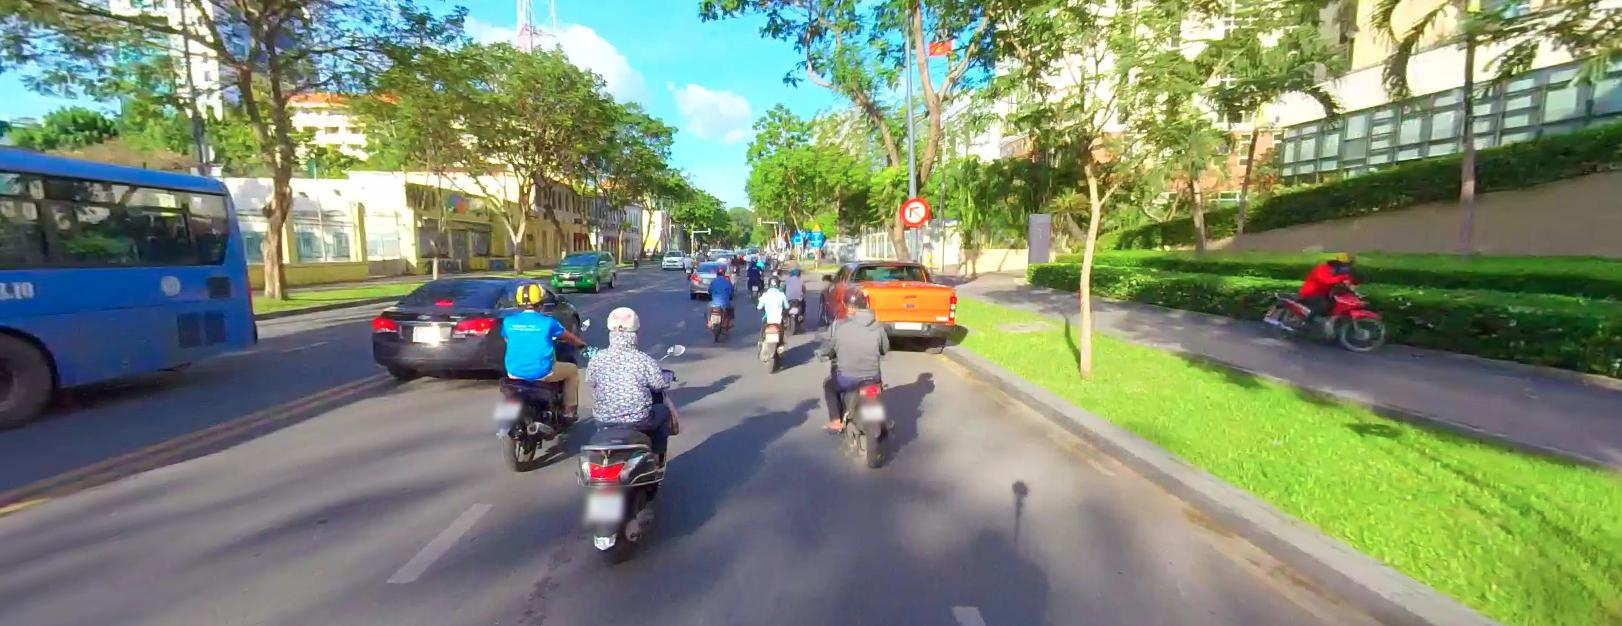Cam re: (898, 195, 929, 226)
Nguy hiem: (811, 222, 821, 229)
